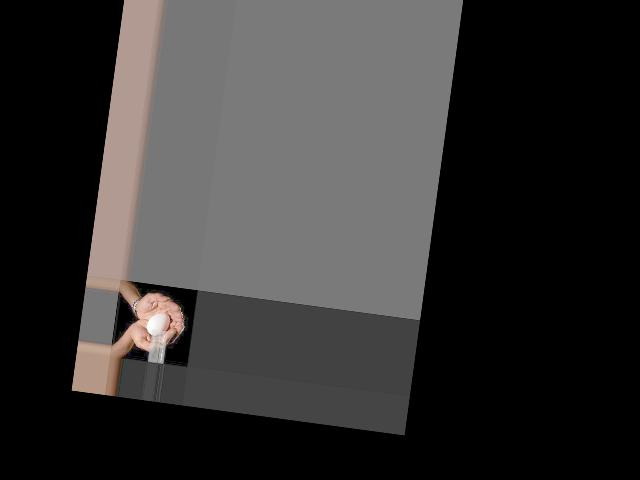egg: (145, 310, 171, 337)
